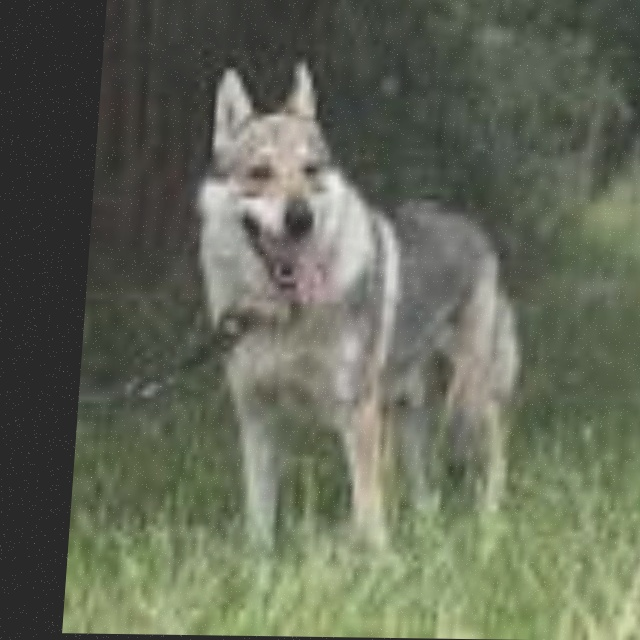dog: (153, 66, 568, 535)
